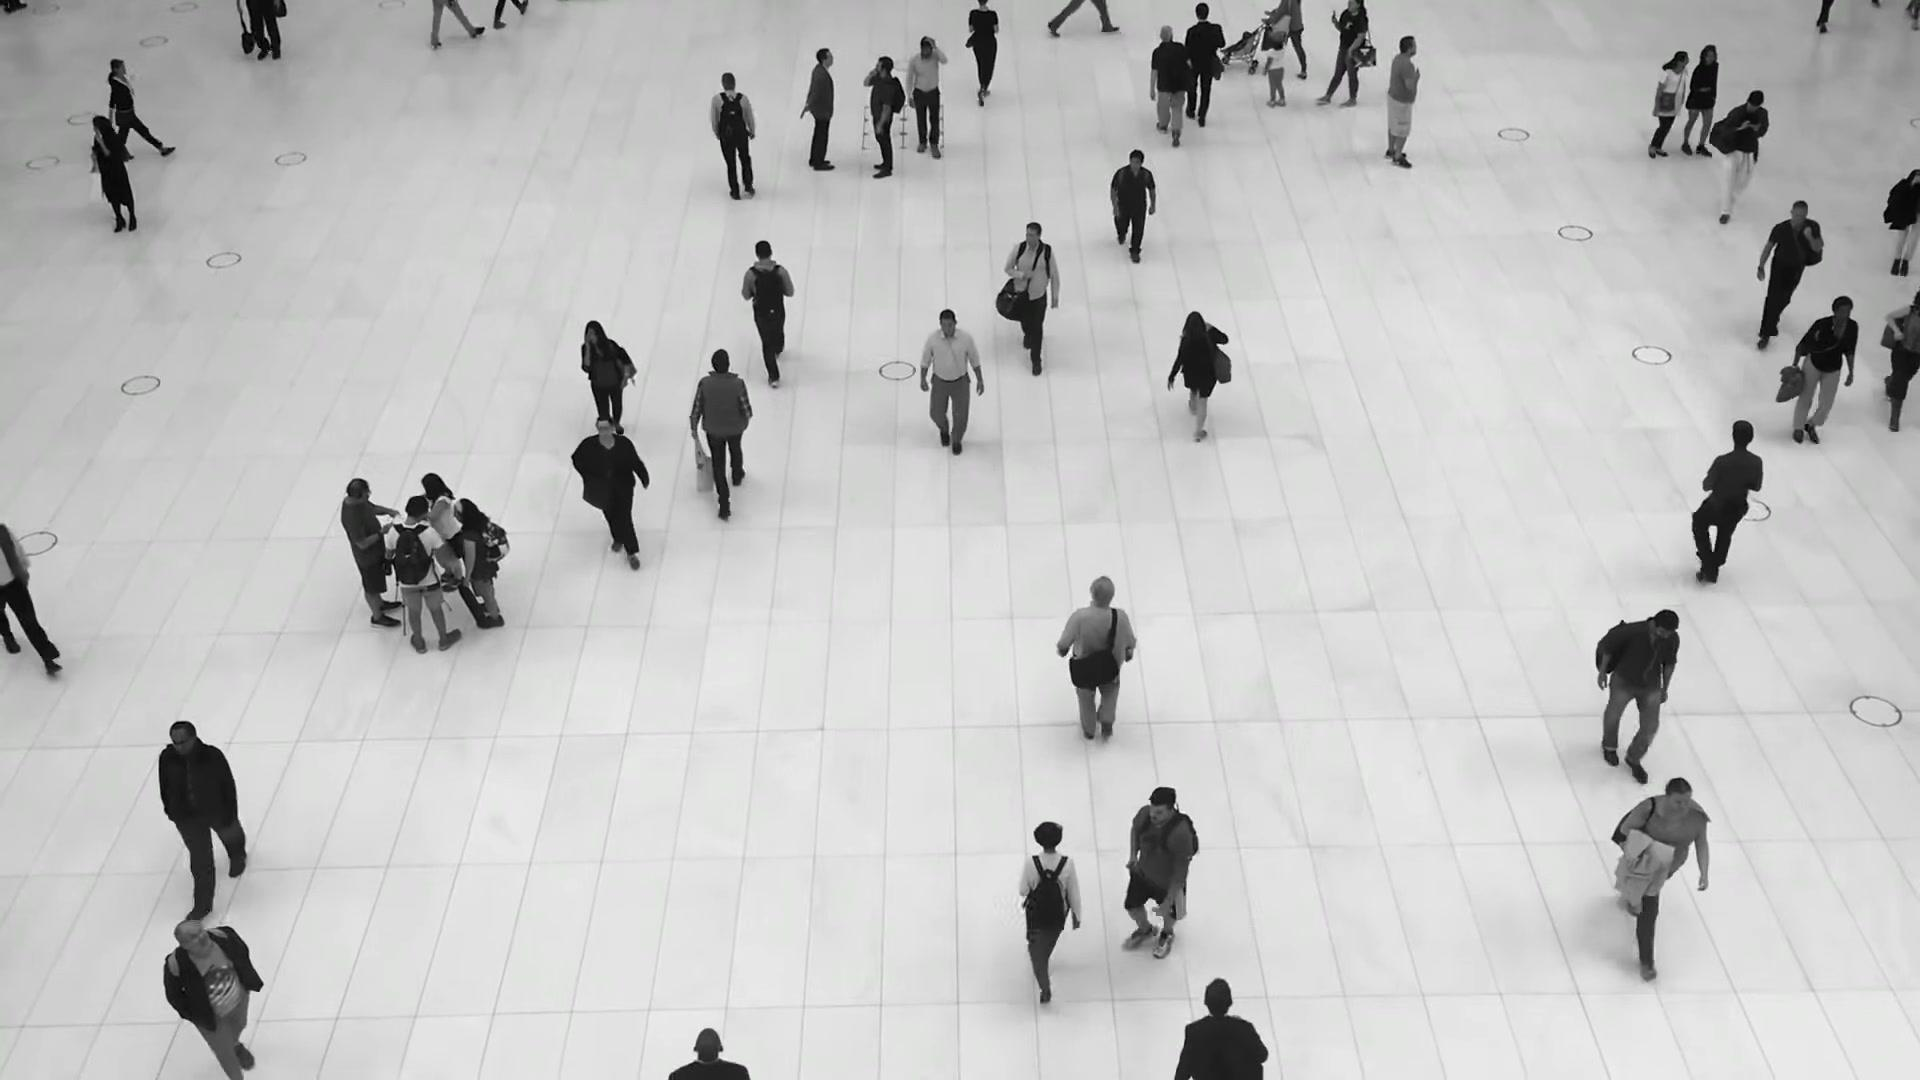person: (1613, 772, 1708, 961), (156, 719, 247, 904), (160, 916, 262, 1079), (1592, 610, 1680, 786), (1117, 788, 1198, 976), (1058, 579, 1138, 765), (1684, 422, 1762, 601), (1015, 824, 1086, 1014), (1783, 298, 1858, 458), (385, 495, 460, 654), (573, 416, 650, 565), (1751, 201, 1822, 350), (691, 346, 752, 510), (918, 312, 981, 464), (340, 478, 402, 630), (1003, 219, 1058, 368), (1710, 91, 1768, 229), (742, 239, 795, 382), (703, 76, 757, 209), (1170, 309, 1226, 433), (452, 498, 505, 629), (1105, 150, 1156, 268), (579, 317, 633, 427), (1319, 0, 1369, 111), (91, 116, 137, 233), (1181, 2, 1224, 127), (906, 36, 948, 160), (1383, 35, 1421, 169), (1642, 51, 1687, 163), (862, 57, 903, 180), (1148, 25, 1191, 144), (420, 472, 460, 593), (1677, 45, 1720, 160), (799, 48, 836, 172), (106, 56, 152, 145), (1262, 0, 1308, 78), (967, 0, 999, 108), (1262, 37, 1285, 108)
